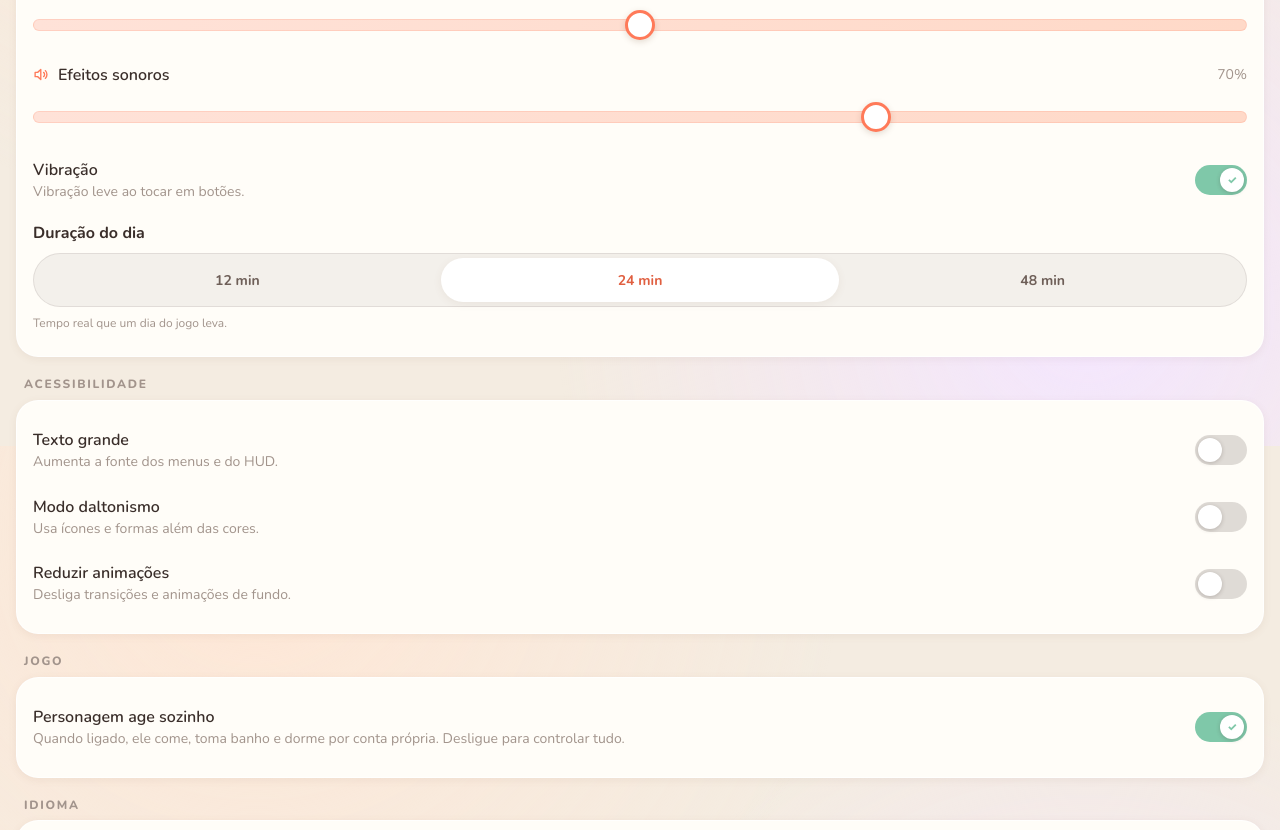
Test: SettingsScreen › renders every section and changes visibility settings
The width and height of the screenshot is (1280, 830).
(page scrolled)
Expected: the heading "Acessibilidade" is shown, x1=24 y1=376 x2=148 y2=392
Click the switch labelled "Texto grande": (81, 440) x1=33 y1=417 x2=1247 y2=484
(page scrolled)
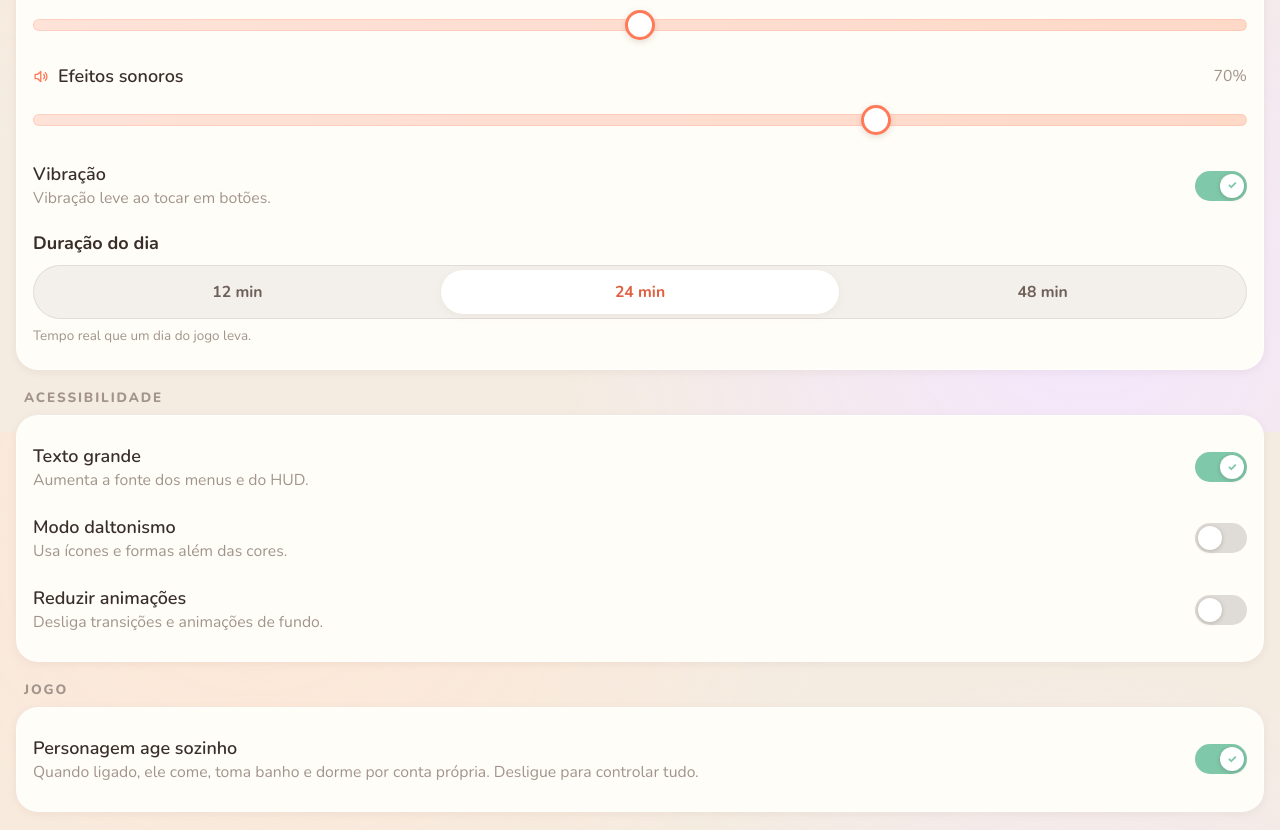
Result: the switch labelled "Texto grande" is checked at x1=33 y1=432 x2=1247 y2=503
